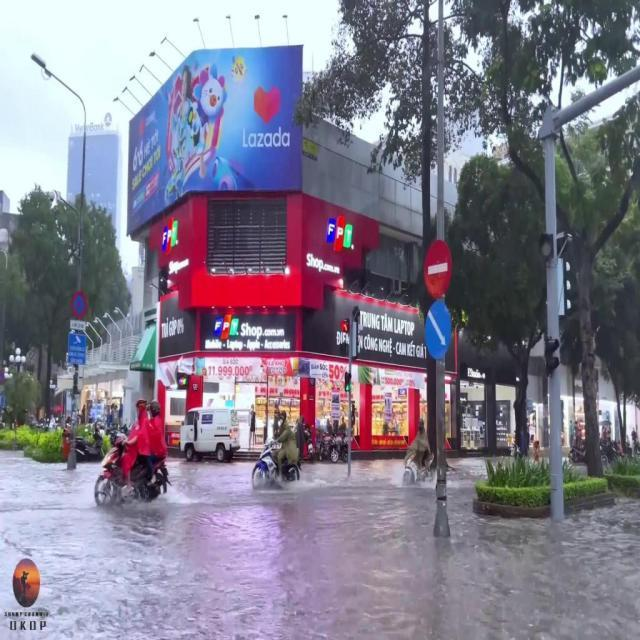102-cam-di-nguoc-chieu: (423, 240, 451, 296)
130-cam-dung-va-do-xe: (71, 290, 89, 320)
302a-huong-phai-di-vong-chuong-ngai-vat-1: (422, 300, 452, 360)
